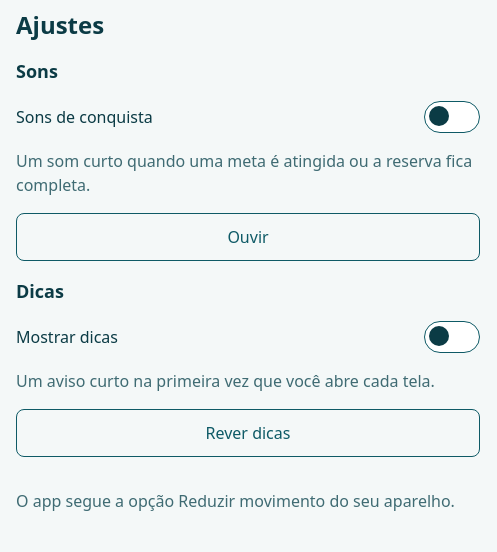
Test: SettingsPage › reviewTipsResetsAndTurnsOn
Click the button "Rever dicas" at point(248, 433), box [16,409,480,457]
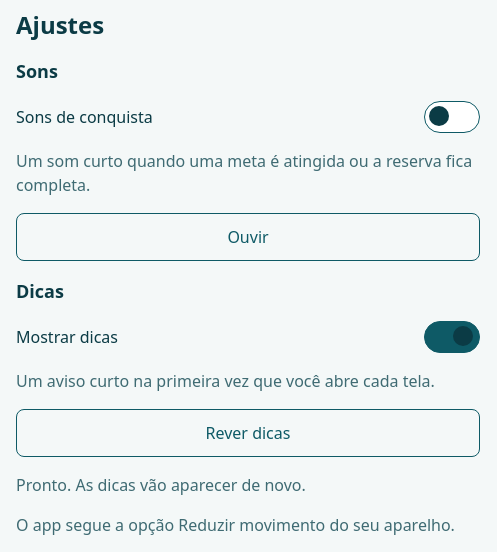
expect the message reads "Pronto. As dicas vão aparecer de novo.": met, box [16,474,306,496]
